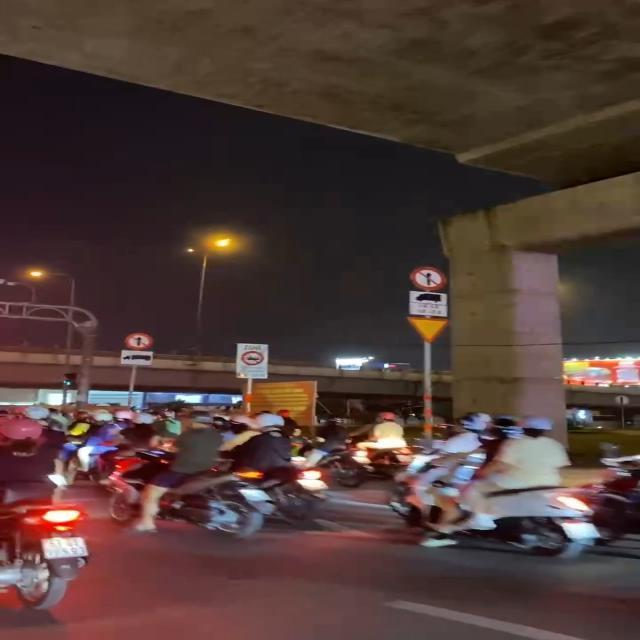136-cam-di-thang: (410, 265, 446, 291), (123, 331, 153, 349)
208-giao-nhau-voi-duong-uu-tien: (406, 317, 450, 343)
